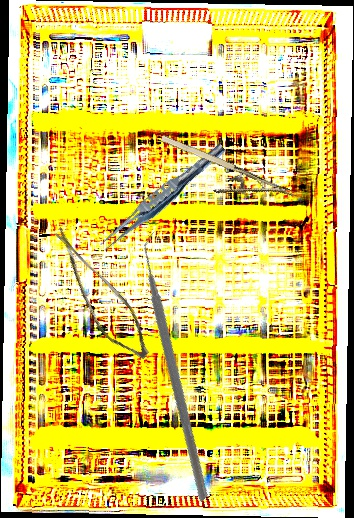Chopper: (41, 225, 320, 503)
Micro Scissor: (27, 227, 170, 366)
Needle Holder: (150, 131, 296, 223)
Tissue Forceps: (96, 137, 229, 257)
